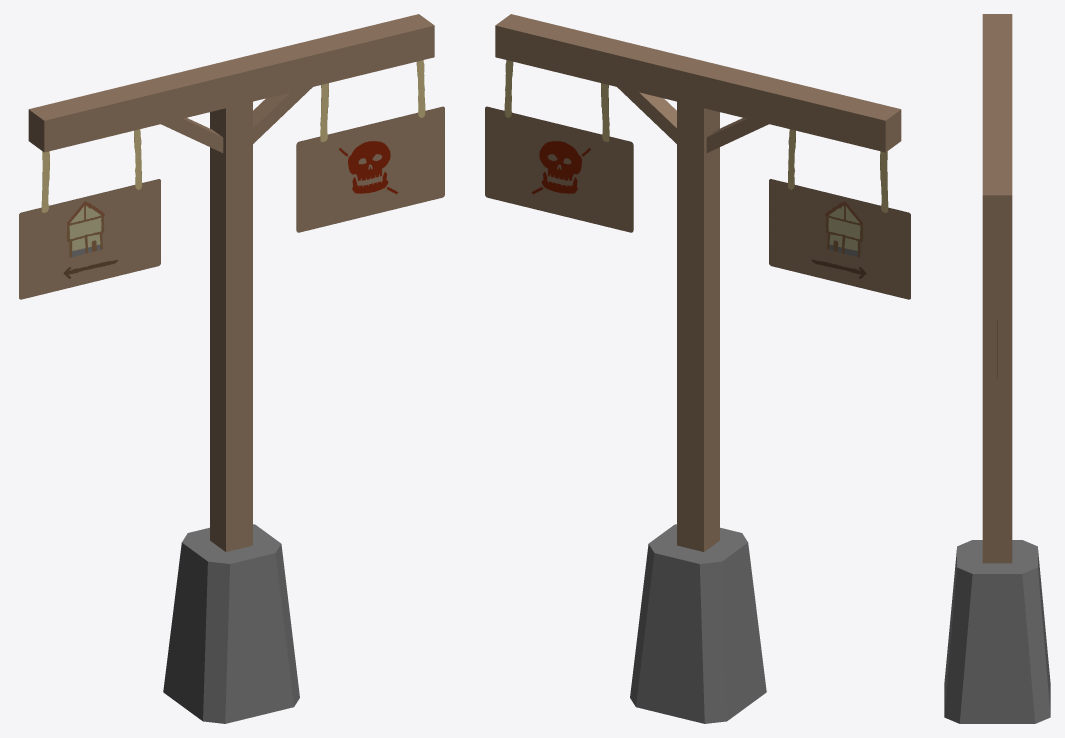
Rendered from Signage.fbx.
3 views of the same model, side by side, from view 1: azimuth 30°, elevation 25°; view 2: azimuth 150°, elevation 25°; view 3: azimuth 270°, elevation 25° (orthographic). The views are drawn at different scales.
Visible parts, largest first — view 1: Cube.003, Cube, sign, sign2; view 2: Cube.003, Cube, sign, sign2; view 3: Cube.003, Cube.
Boxes of the visible parts, x1,y1,x2,y2 form: Cube.003: (28,14,434,551); Cube: (163,524,299,723); sign: (296,60,444,232); sign2: (19,129,160,299); Cube.003: (495,14,901,551); Cube: (630,524,766,723); sign: (485,60,633,232); sign2: (769,129,910,299); Cube.003: (982,14,1012,563); Cube: (944,540,1050,723).
Bounding box in the file's own units: 601 × 826 × 134.
